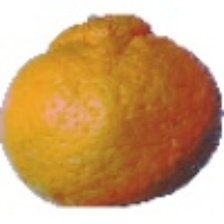tangerine: (53, 52, 199, 190)
